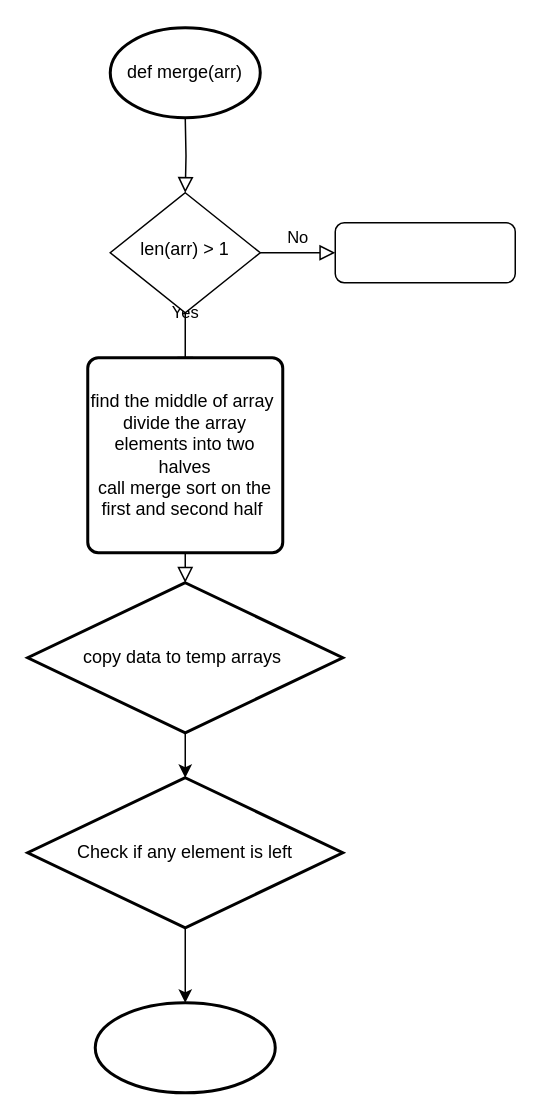
Some shapes in this 542 by 1119 pixel diagram are drawn without their labels. The shapes that lost their labels are listed below. From the top down, each one's centre as x and y in pixels, then its label:
At [424,252]: "print(arr)".
At [184,1047]: "Print newly sorted array".
